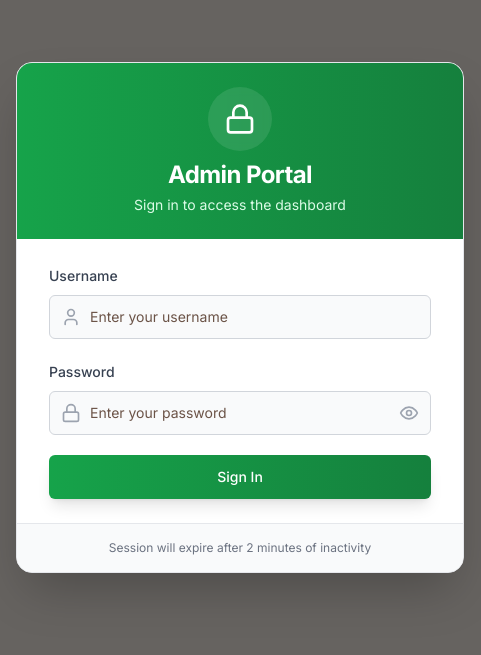
Test: AdminLoginModal › displays error message on failed login
The width and height of the screenshot is (481, 655).
Type "wrong" into the field with placeholder "Enter your username" at (240, 316), box x1=49 y1=294 x2=431 y2=338
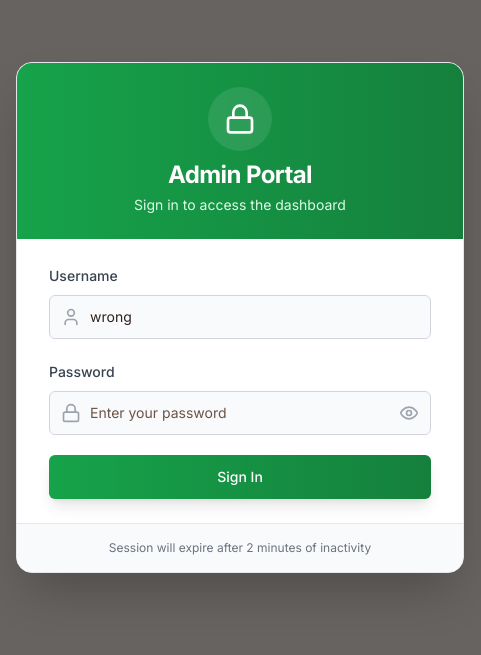
Type "credentials" into the password field with placeholder "Enter your password" at (240, 412), box x1=49 y1=390 x2=431 y2=434
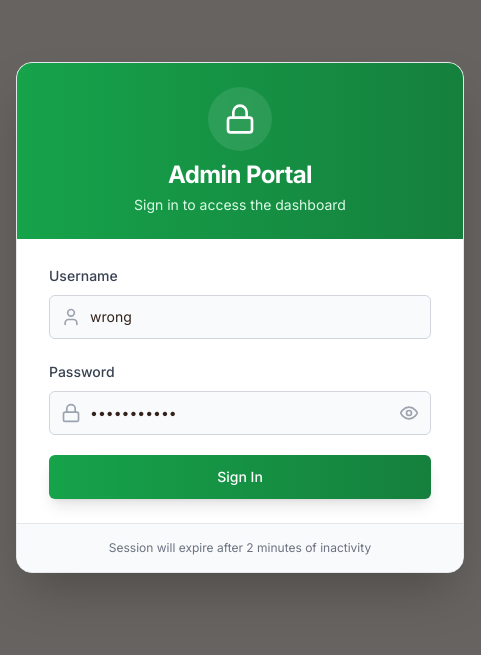
Click the button "Sign In" at (240, 476), box x1=49 y1=454 x2=431 y2=498
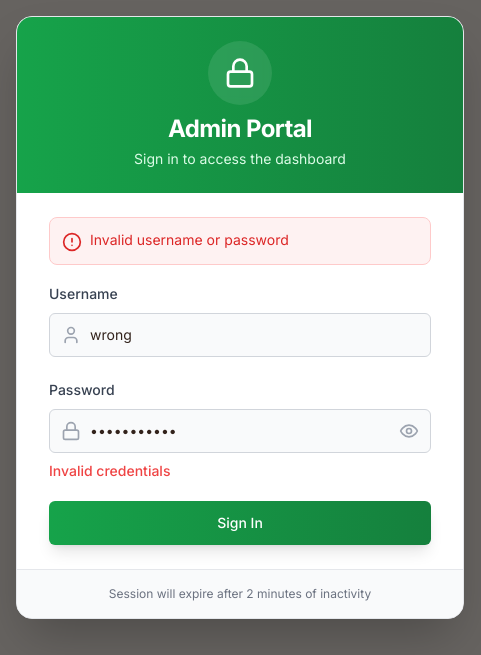
Now the text "Invalid username or password" is shown, box x1=90 y1=230 x2=289 y2=250
